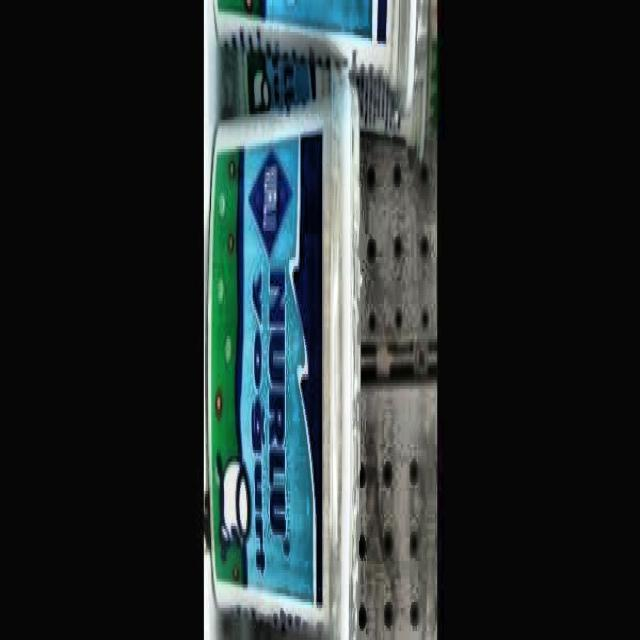plastic: (209, 72, 360, 635)
